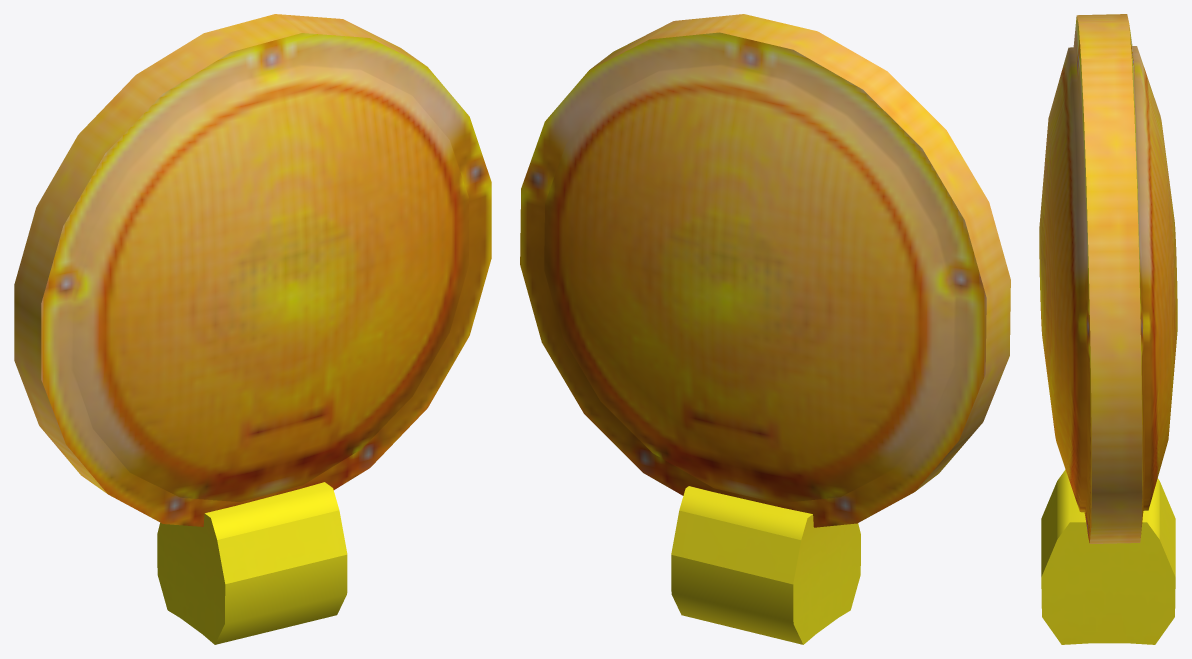
Rendered from Light.fbx.
3 renders of one model, left to right at view 1: azimuth 30°, elevation 25°; view 2: azimuth 150°, elevation 25°; view 3: azimuth 270°, elevation 25°, orthographic.
Visible parts, largest first — view 1: Light; view 2: Light; view 3: Light.
Part boxes in pixels (x1,y1,x2,y2): Light: [14, 14, 491, 644]; Light: [520, 14, 1010, 644]; Light: [1039, 14, 1177, 644].
Bounding box in the file's own units: 16.45 × 19.86 × 4.34.
Materials: 1 (1 with a texture image).
